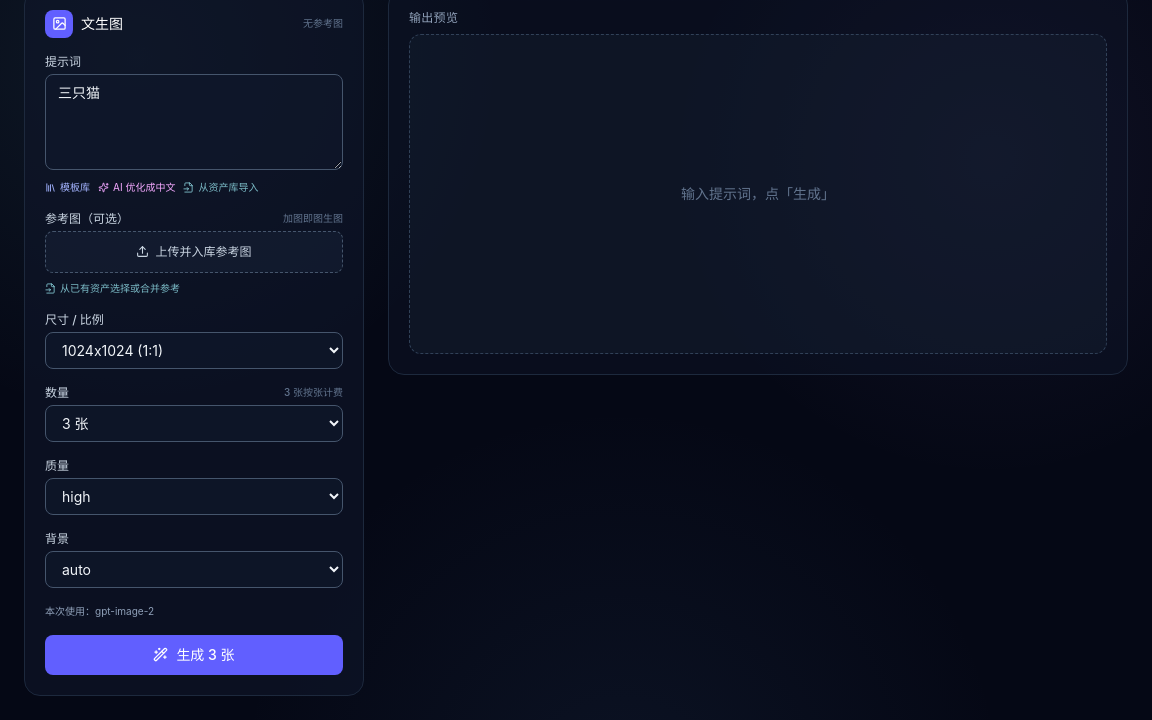
Test: GeneratePanel model switcher › generates the requested number of images and shows the whole batch
(page scrolled)
Expected: the dropdown labelled "数量 3 张按张计费" shows "3 张", [45,404,343,442]
Expected: the text "3 张按张计费" is shown, [284,386,343,399]
Click the button "生成 3 张": (194, 654) [45,634,343,674]
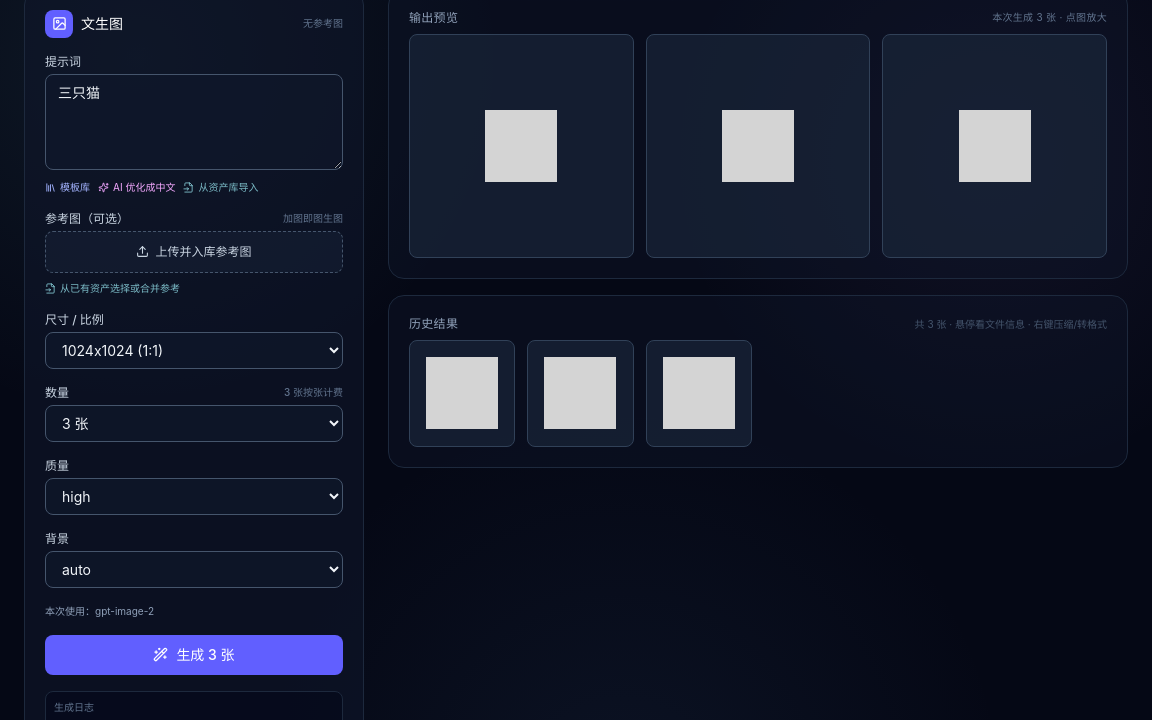
Expected: the text "本次生成 3 张 · 点图放大" is shown, [992,11,1107,24]
